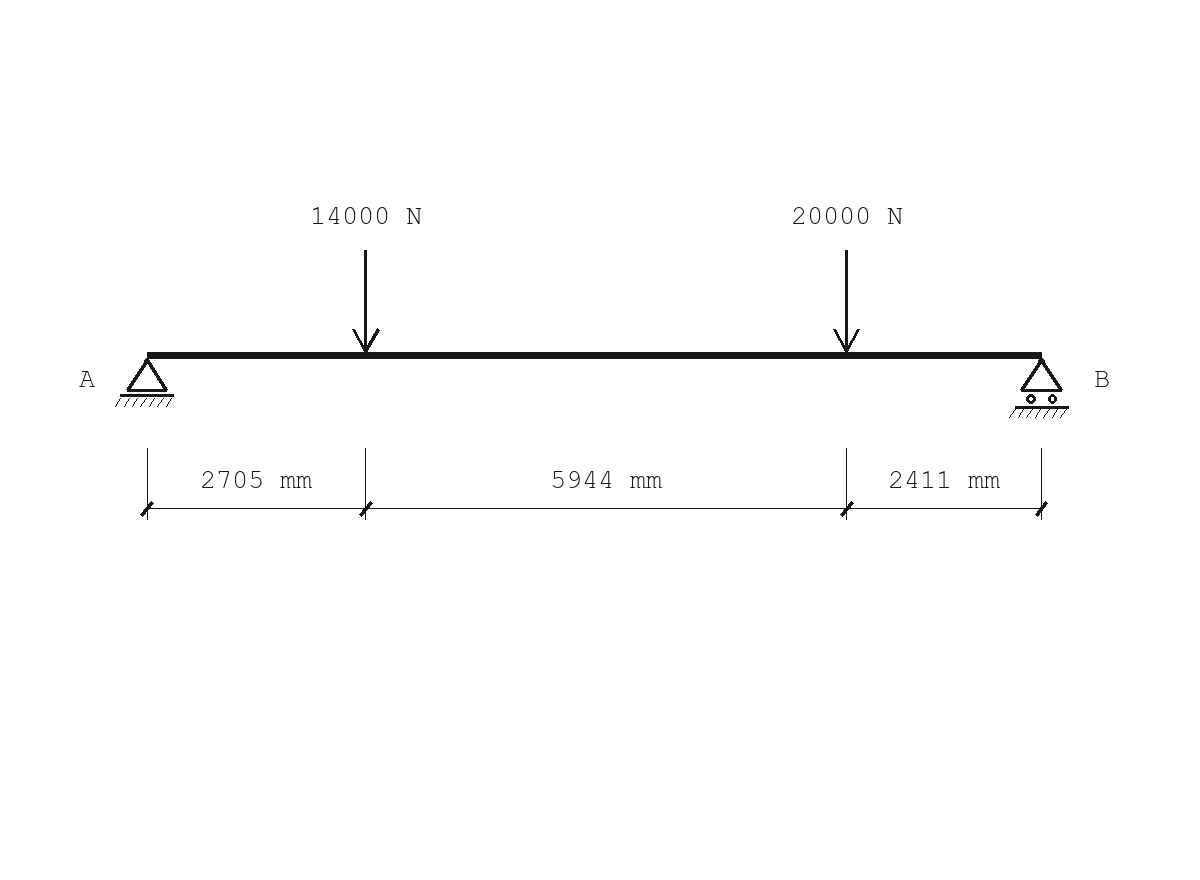pin_support: (115, 358, 174, 407)
point_load: (352, 250, 380, 353), (833, 250, 860, 352)
roller_support: (1009, 358, 1069, 418)
